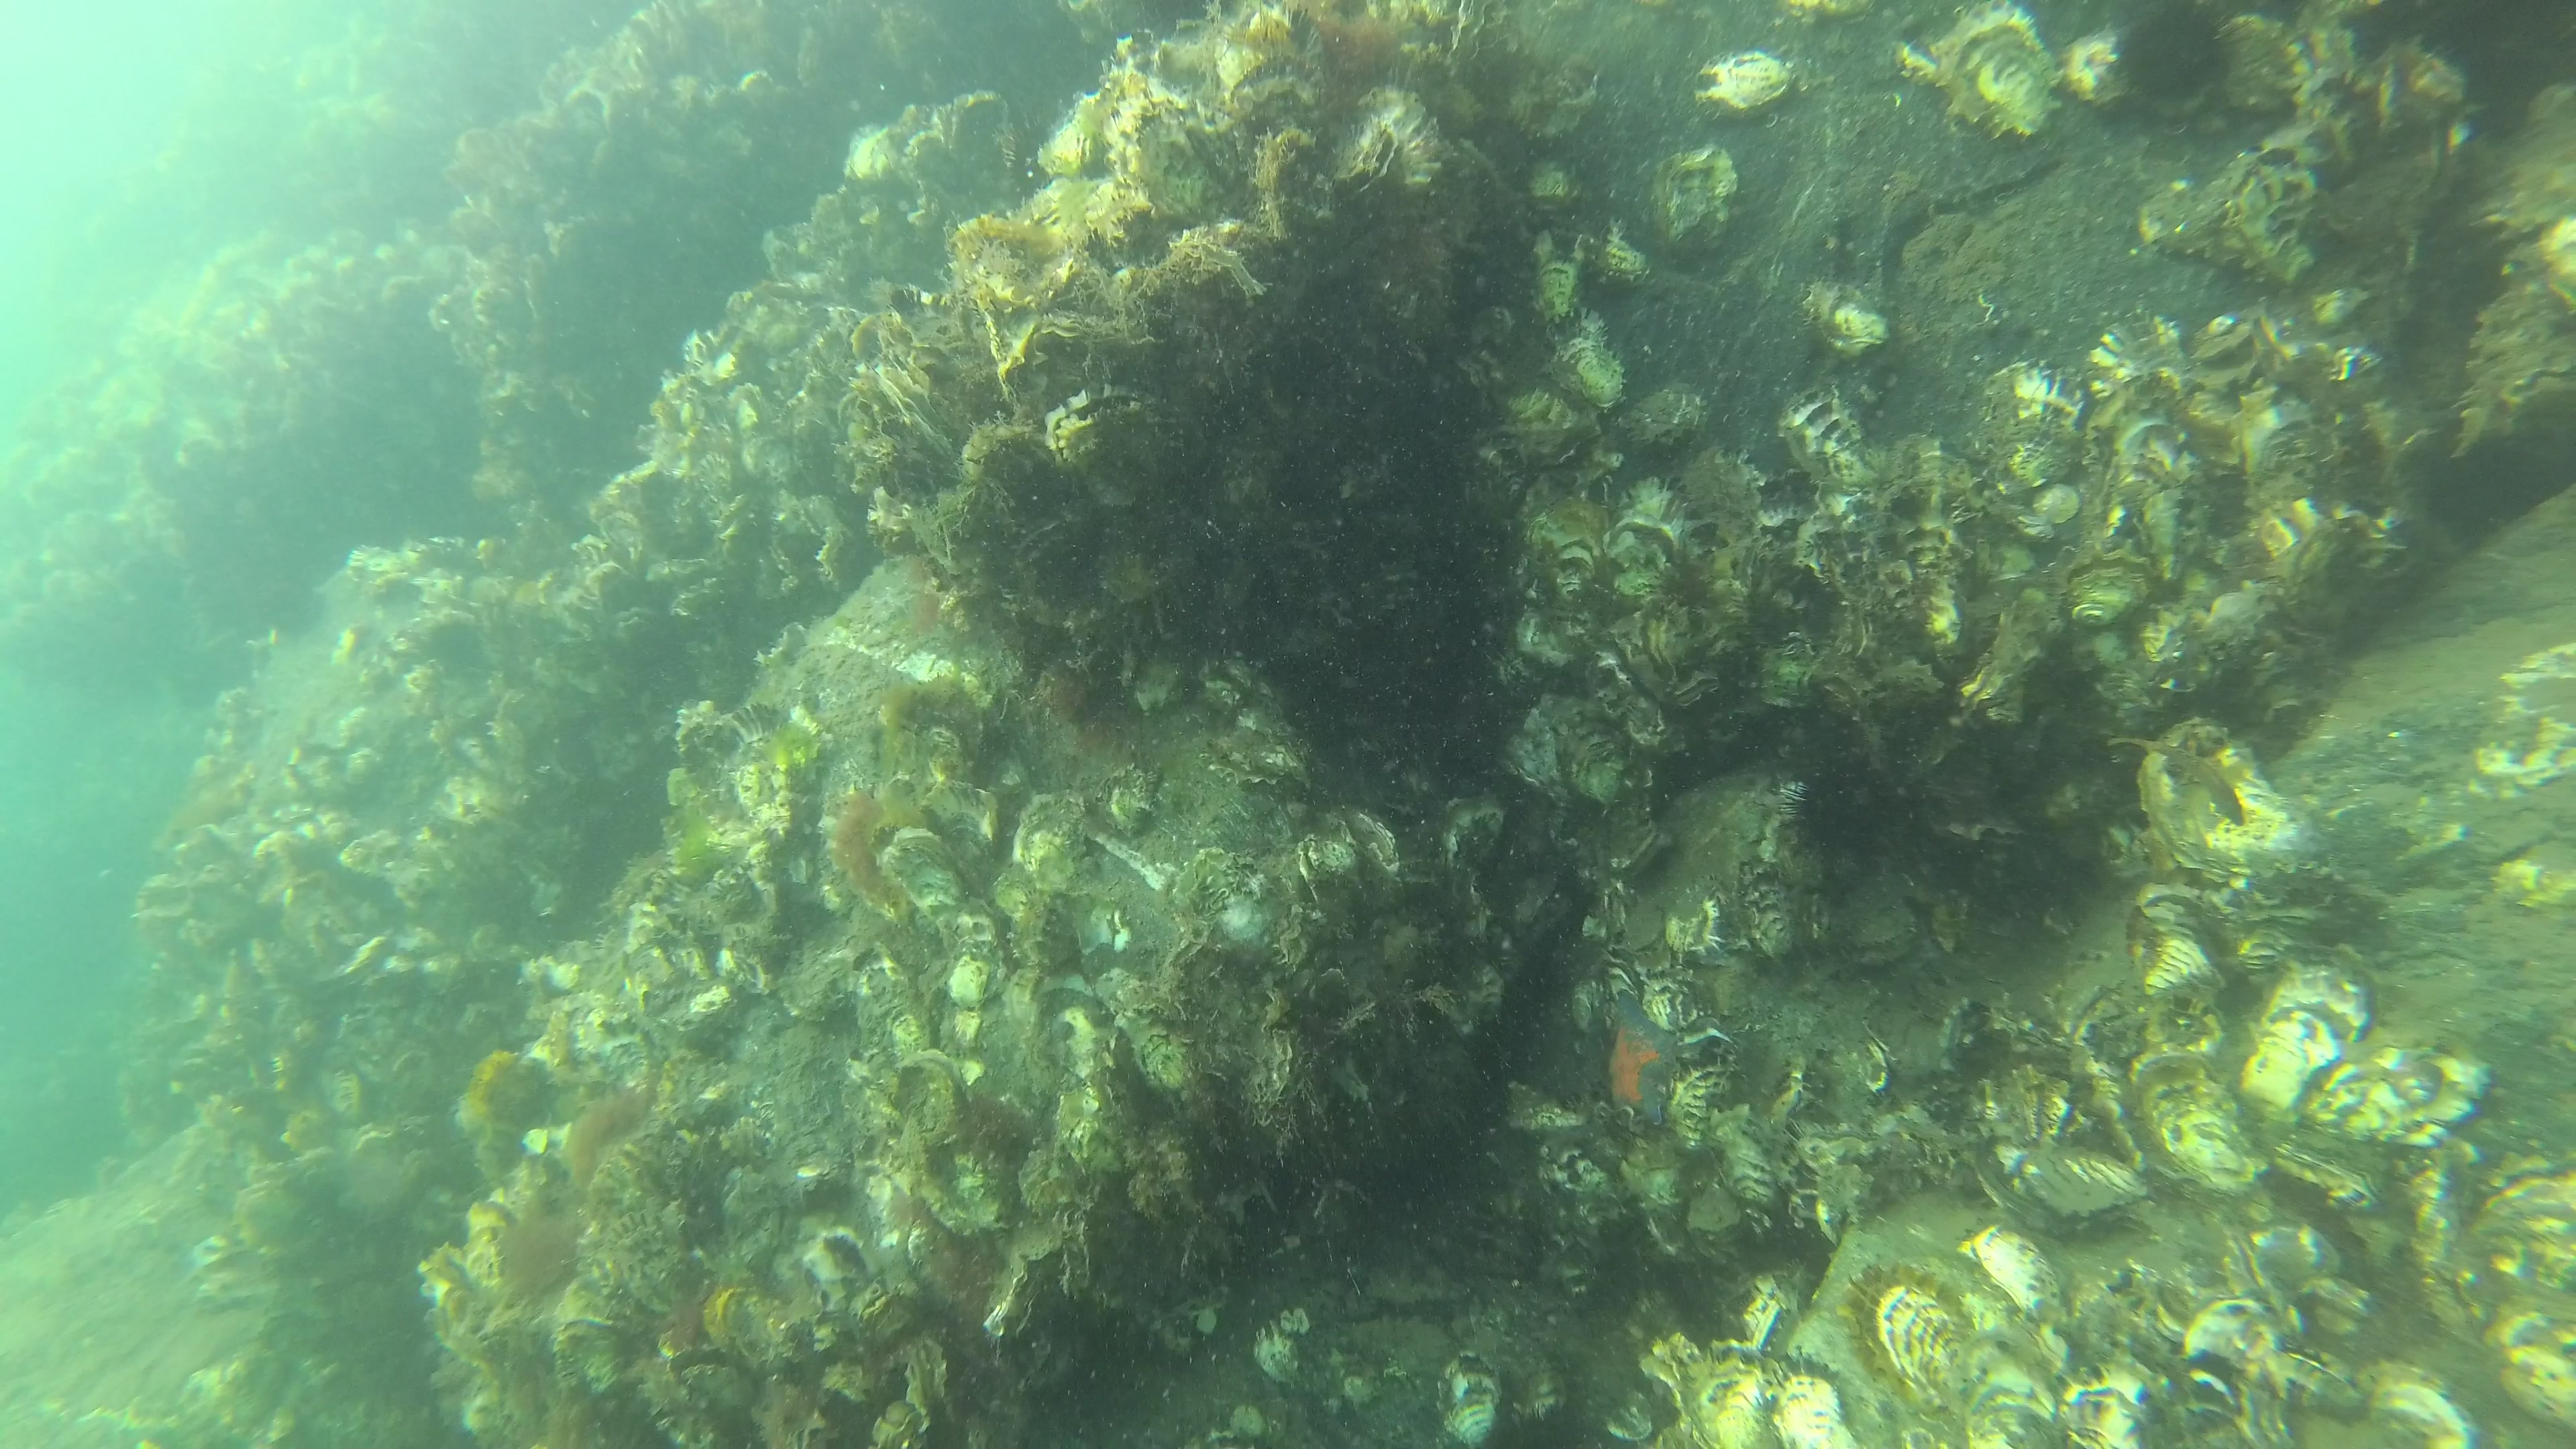echinus: (2109, 4, 2233, 106), (1780, 764, 1897, 855), (1479, 1401, 1612, 1449)
starfish: (1605, 985, 1684, 1123)
